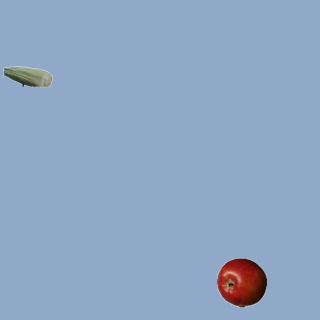Apple Braeburn: (216, 257, 266, 307)
Corn Husk: (2, 51, 52, 101)
